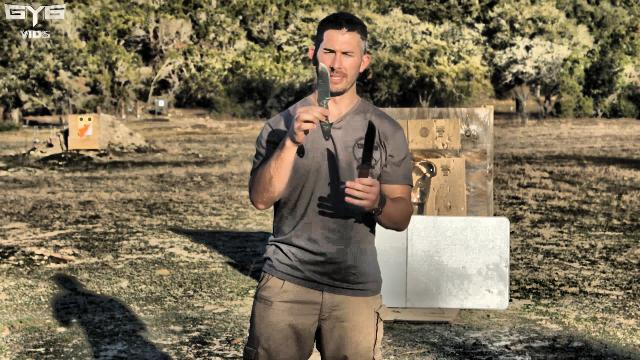knife: (338, 117, 378, 207), (308, 60, 334, 144)
